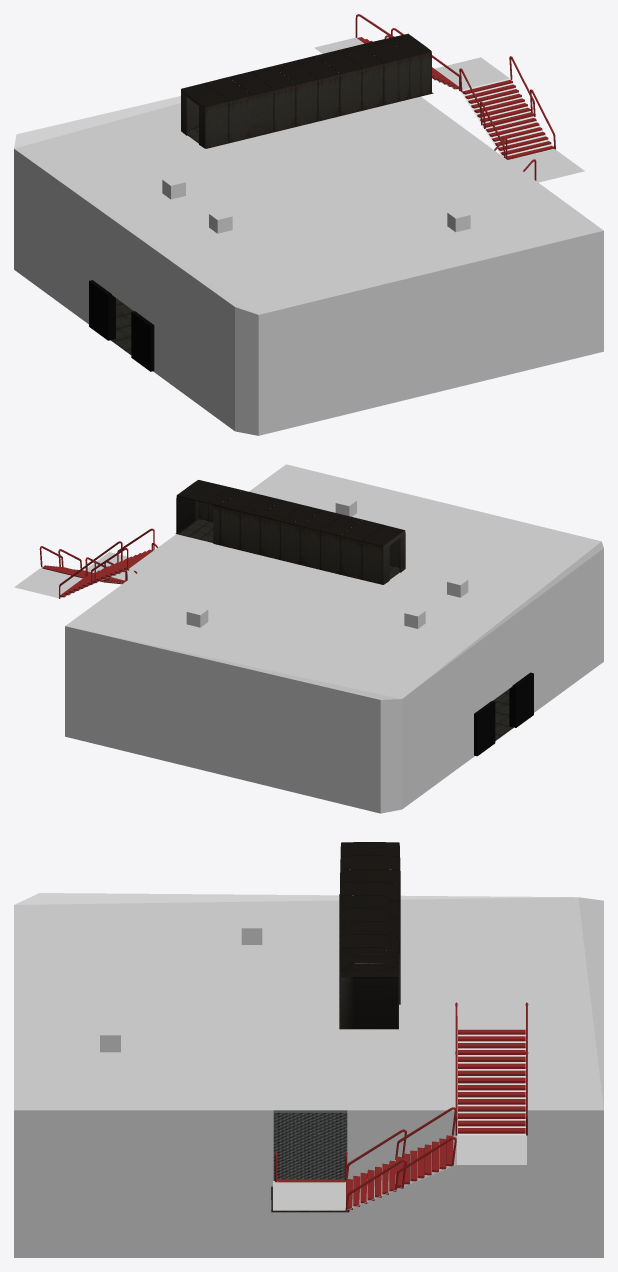
The model's file is Level 2.fbx.
The picture shows the model from 3 angles, top to bottom: view 1: azimuth 30°, elevation 25°; view 2: azimuth 150°, elevation 25°; view 3: azimuth 270°, elevation 25°; orthographic projection. The views are drawn at different scales.
Parts seen in each view (by area): view 1: New Level 2 Room, Walls Hallway 2, Level 2 Staircase Floor, New Level 2 Stairs.001, New Level 2 Pillars, Exit Door R, Exit Door L, New Level 2 Base Floor, New Level 2 Stairs.002; view 2: New Level 2 Room, Walls Hallway 2, Level 2 Staircase Floor, New Level 2 Pillars, New Level 2 Stairs.002, Exit Door L, Exit Door R, New Level 2 Stairs.001, Floor Hallway 2, New Level 2 Base Floor; view 3: New Level 2 Room, Walls Hallway 2, Level 2 Staircase Floor, New Level 2 Stairs.002, New Level 2 Metal Floor, New Level 2 Stairs.001, New Level 2 Base Floor, New Level 2 Pillars.
Part boxes in pixels (x1,y1,x2,y2): New Level 2 Room: (14,96,603,435); Walls Hallway 2: (181,33,431,148); Level 2 Staircase Floor: (314,37,584,182); New Level 2 Stairs.001: (459,56,555,159); New Level 2 Pillars: (162,176,470,233); Exit Door R: (89,280,115,340); Exit Door L: (131,311,154,371); New Level 2 Base Floor: (111,298,133,354); New Level 2 Stairs.002: (355,14,460,90); New Level 2 Room: (65,464,603,813); Walls Hallway 2: (176,480,405,584); Level 2 Staircase Floor: (14,534,213,598); New Level 2 Pillars: (186,497,468,628); New Level 2 Stairs.002: (59,528,154,598); Exit Door L: (509,672,533,727); Exit Door R: (474,701,495,756); New Level 2 Stairs.001: (39,546,127,584); Floor Hallway 2: (175,519,399,579); New Level 2 Base Floor: (493,689,513,740); New Level 2 Room: (14,893,603,1257); Walls Hallway 2: (340,842,400,1028); Level 2 Staircase Floor: (273,1004,526,1210); New Level 2 Stairs.002: (455,1002,528,1135); New Level 2 Metal Floor: (271,1113,349,1212); New Level 2 Stairs.001: (345,1107,456,1211); New Level 2 Base Floor: (273,1113,346,1179); New Level 2 Pillars: (100,919,262,1052).
Size of what is drawn, in the model's own units: 2659 by 1260 by 2473.
